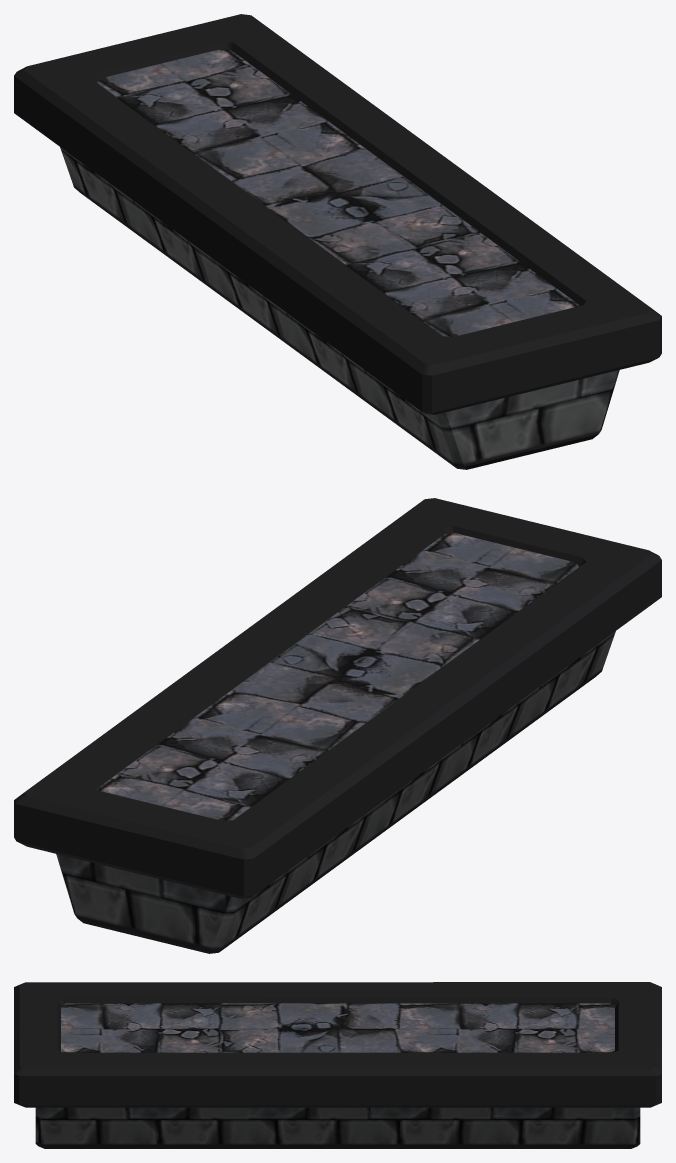
The model's file is M_Platform_1.fbx.
The picture shows the model from 3 angles, top to bottom: view 1: azimuth 30°, elevation 25°; view 2: azimuth 150°, elevation 25°; view 3: azimuth 270°, elevation 25°; orthographic projection. The views are drawn at different scales.
Visible parts, largest first — view 1: M_Platform_1; view 2: M_Platform_1; view 3: M_Platform_1.
Part boxes in pixels (x1,y1,x2,y2): M_Platform_1: (14, 14, 661, 469); M_Platform_1: (14, 498, 661, 953); M_Platform_1: (14, 982, 661, 1148).
Bounding box in the file's own units: 100 × 49.7 × 300.
